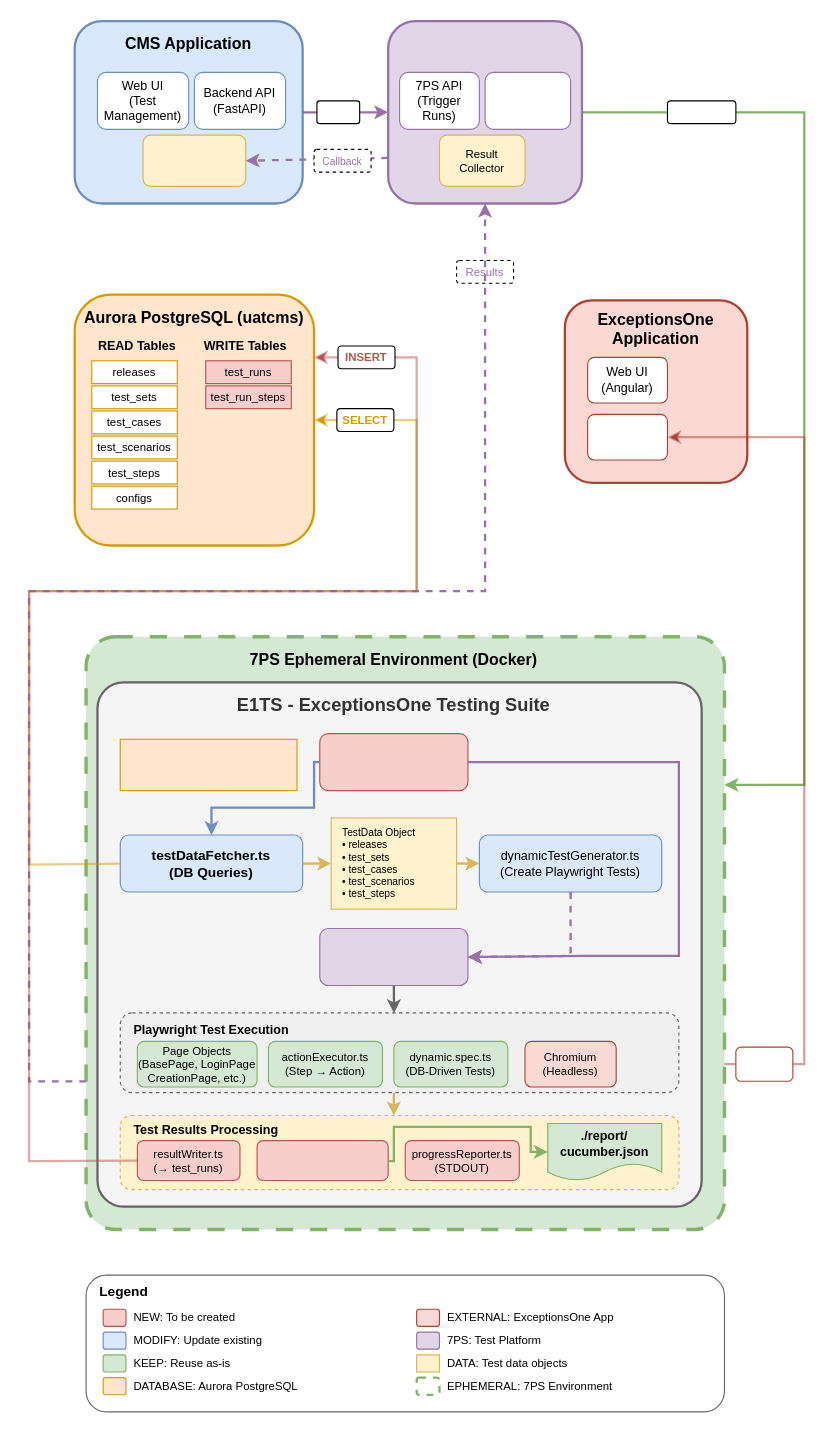
The diagram is 834 pixels wide and 1432 high, and some of its shapes have lost their labels. Here are the shapes that lost their labels. From the top down, the centre of each, then its label:
At point (338, 112): "Trigger".
At point (527, 100): "Git Clone E1TS Repo".
At point (701, 112): "Clone & Run".
At point (194, 160): "Test Trigger Endpoint".
At point (627, 436): "API (Backend)".
At point (208, 764): "Environment Variables RELEASE_ID, TEST_SET_ID DB_HOST, DB_USER, CI".
At point (393, 761): "index.ts (7PS Entry Point)".
At point (393, 956): "testRunner.ts (Orchestrator)".
At point (764, 1063): "HTTP Requests".
At point (322, 1159): "cucumberReporter.ts (Cucumber JSON)".
